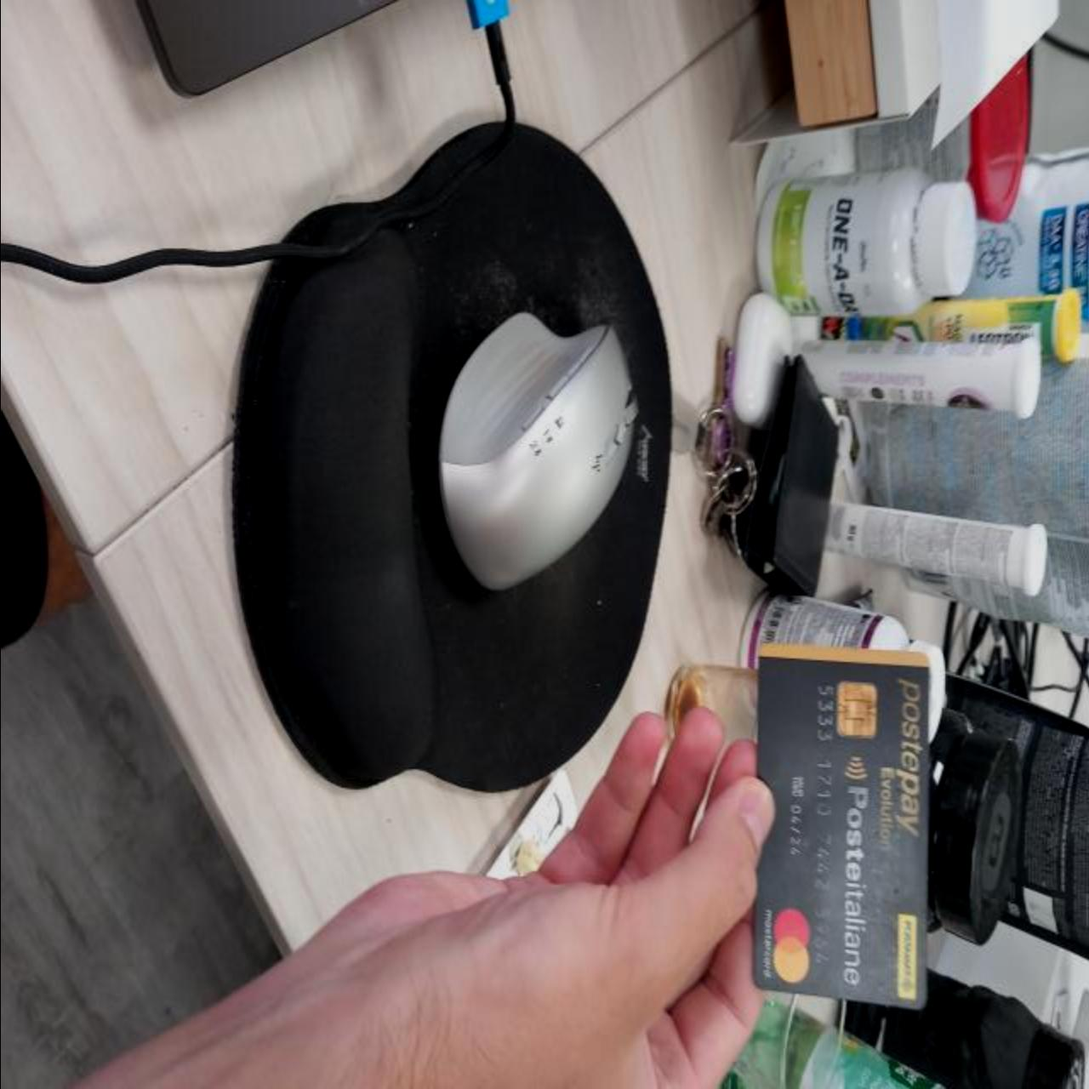credit_card: (754, 643, 930, 1013)
